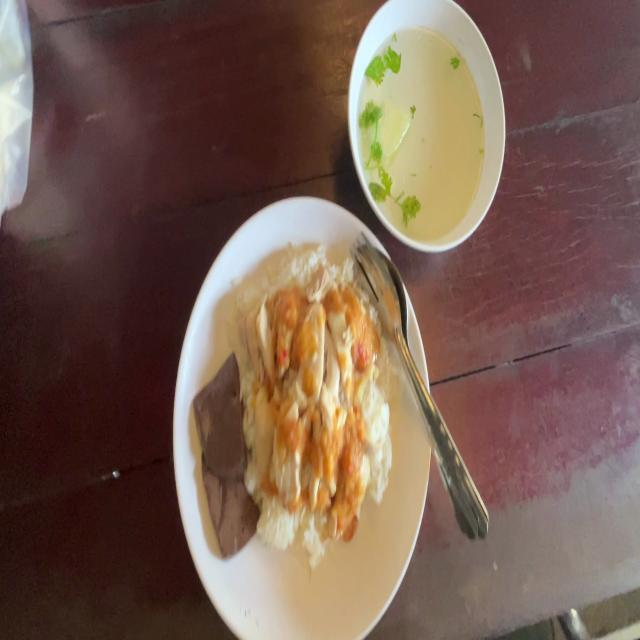boiled_chicken: (256, 293, 366, 500)
boiled_chicken_blood_jelly: (194, 355, 244, 485), (200, 454, 260, 559)
chicken_rice: (198, 248, 400, 566)
